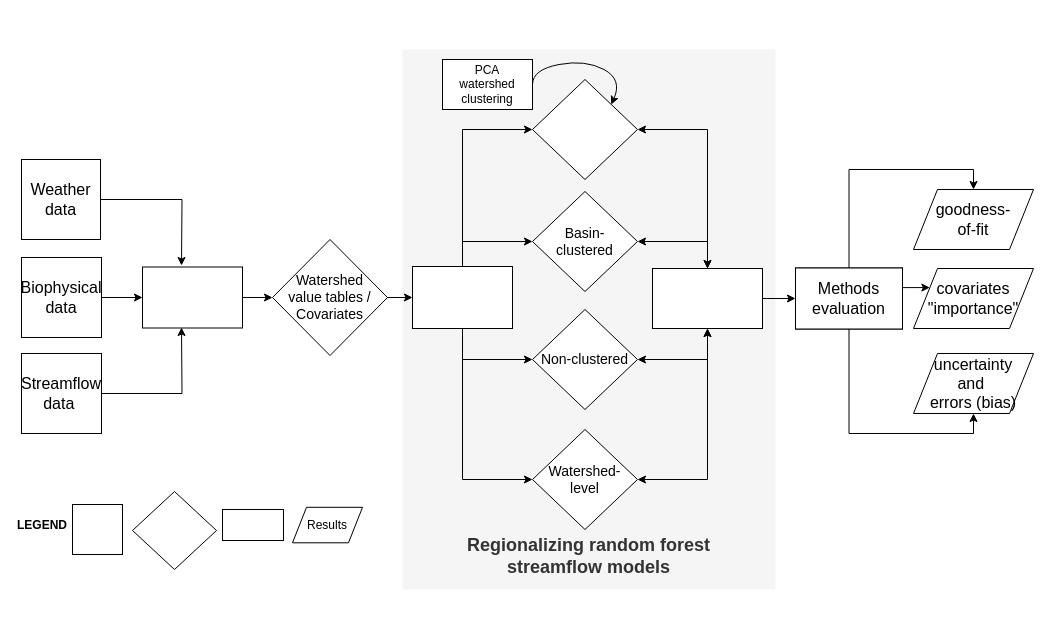
Some shapes in this 1051 by 639 pixel diagram are drawn without their labels. Each missing label, with the centre of its shape:
Grouping watersheds: pixel 462 297
Input data: pixel 97 529
Intermediate data / Model: pixel 174 530
PCA-clustered: pixel 585 129
Pre-processing watershed data: pixel 192 297
Process: pixel 253 524
RF streamflow modelling and "transfer": pixel 707 298
